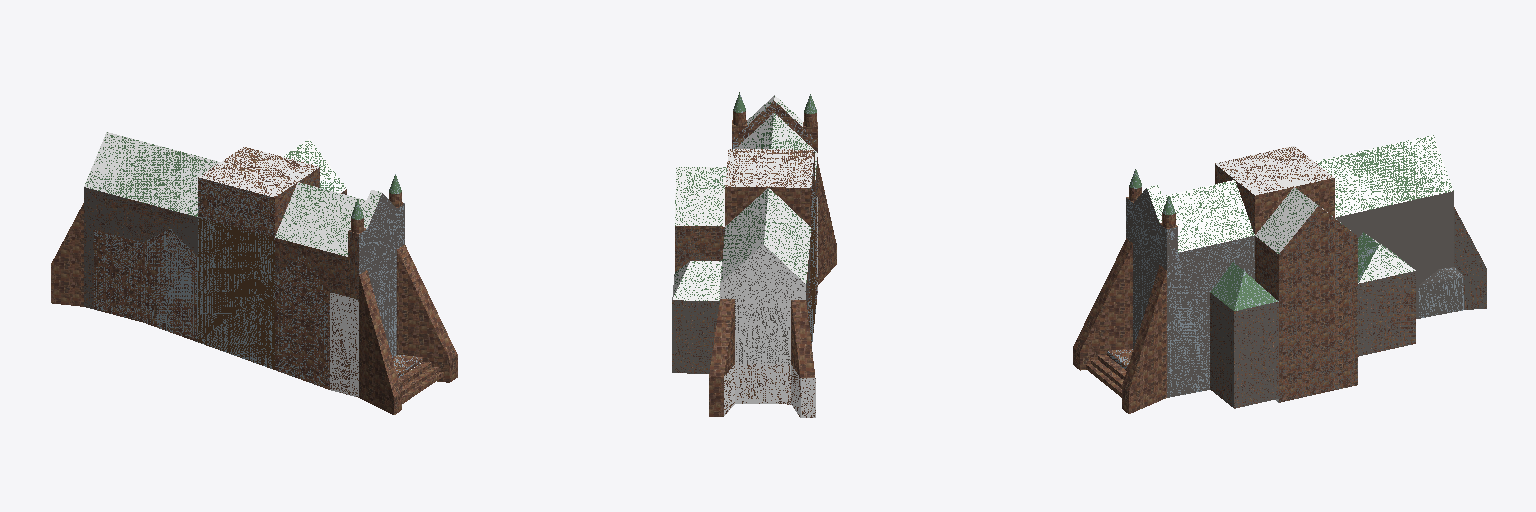
3 views of the same model, side by side, from view 1: azimuth 30°, elevation 25°; view 2: azimuth 150°, elevation 25°; view 3: azimuth 270°, elevation 25° (orthographic).
Visible parts, largest first — view 1: Mesh1 Group1 Transept_roman Model, Mesh7 Transept_roman Model; view 2: Mesh1 Group1 Transept_roman Model, Mesh7 Transept_roman Model; view 3: Mesh1 Group1 Transept_roman Model.
Part boxes in pixels (x1,y1,x2,y2): Mesh1 Group1 Transept_roman Model: (51,132,457,414); Mesh7 Transept_roman Model: (143,177,329,389); Mesh1 Group1 Transept_roman Model: (672,95,836,417); Mesh7 Transept_roman Model: (809,151,816,343); Mesh1 Group1 Transept_roman Model: (1073,135,1486,413).
Bounding box in the file's own units: 55.07 × 42.82 × 78.3.
6 materials, 1 textured.